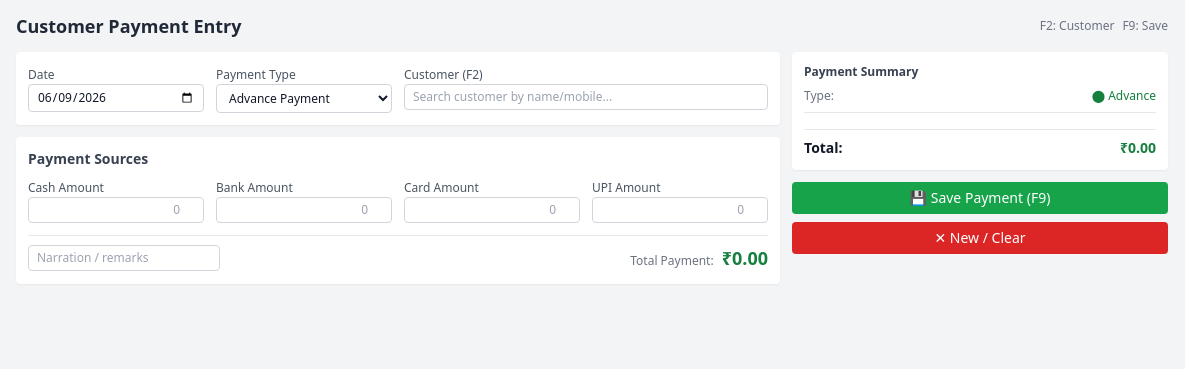
Scenario: CustomerPaymentEntry › selects customer and shows balance info
Type "Raj" into the field with placeholder "Search customer by name/mobile..." at {"x": 586, "y": 97}, box [404,84,768,110]
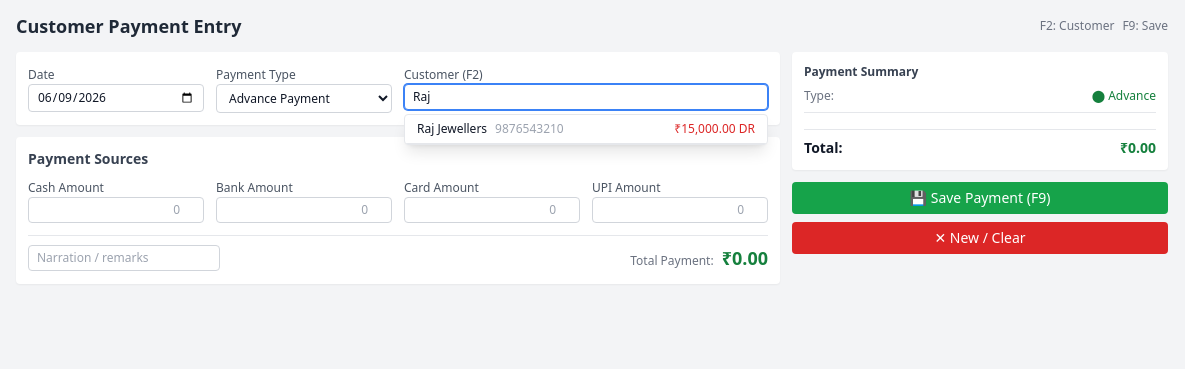
expect the text "Raj Jewellers" is shown: met
# Click on the customer in dropdown
Click the text "Raj Jewellers" at {"x": 452, "y": 128}, box [417,120,487,137]
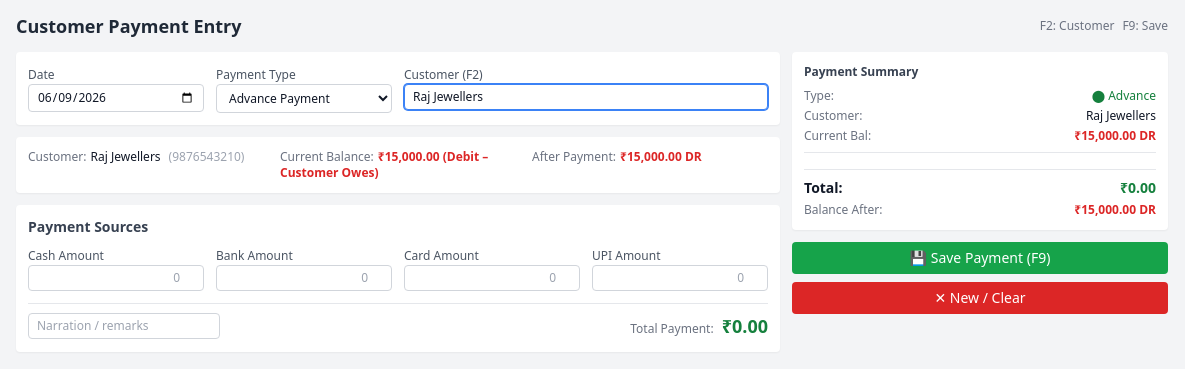
expect the text "Current Balance:" is shown: met, box [280,148,374,165]
